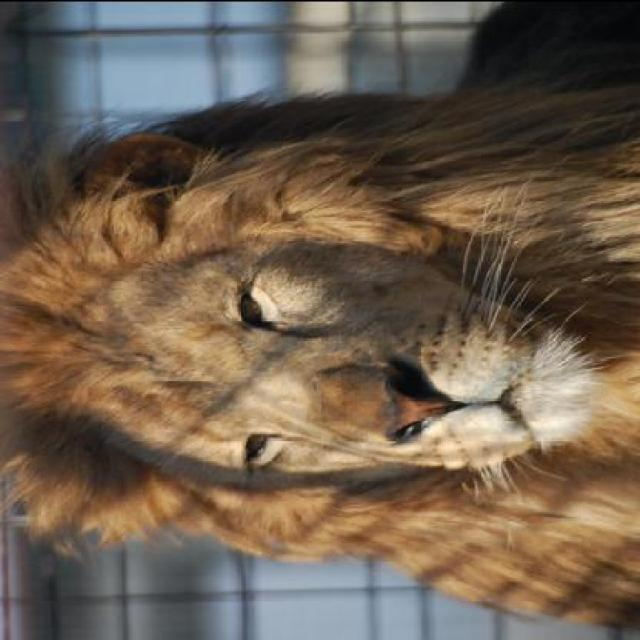Lion: (7, 72, 638, 610)
